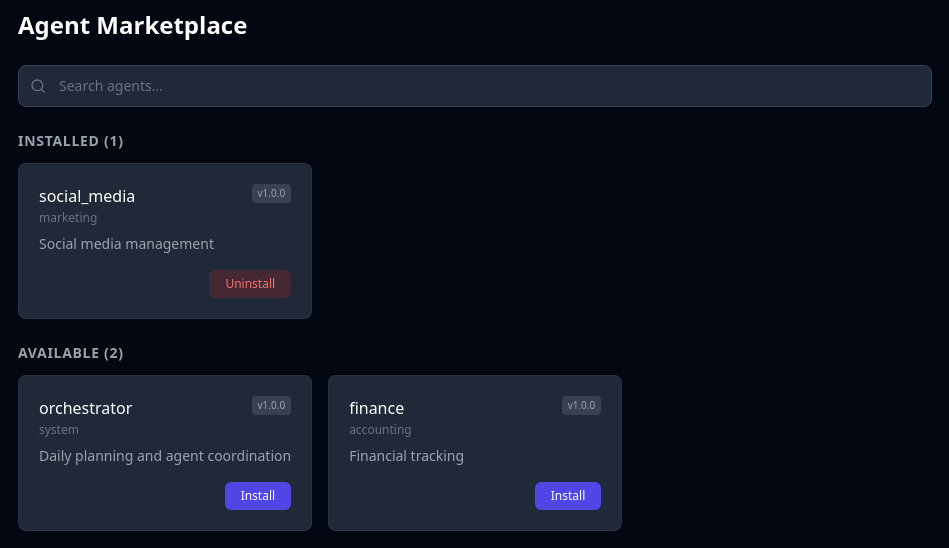
it: MarketplacePage › filters agents by search query
Expected: the heading "orchestrator" is shown, [39,397,132,419]
Type "finance" into the field with placeholder "Search agents…" at (475, 86), box [18,65,932,107]
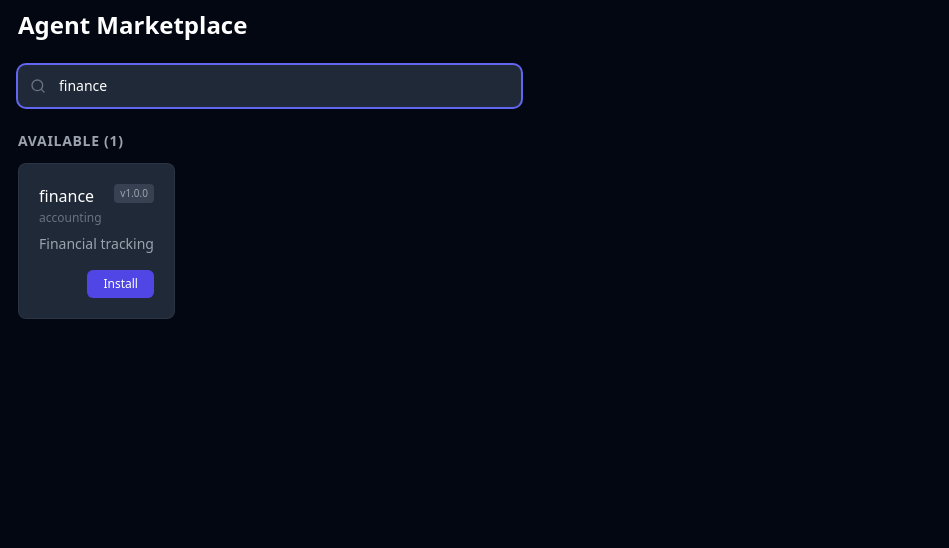
Expected: the heading "finance" is shown, [39,185,94,207]
Expected: the heading "orchestrator" is gone
Expected: the heading "social_media" is gone
